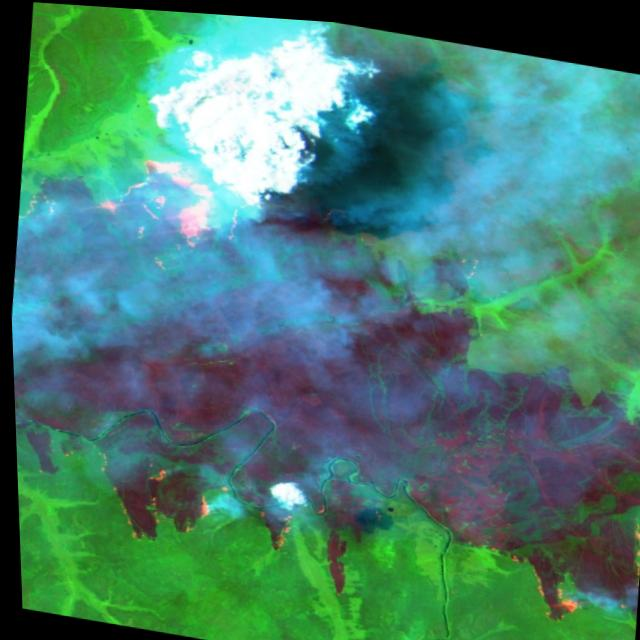fire: (70, 437, 321, 575), (79, 135, 243, 259), (483, 533, 599, 625)
